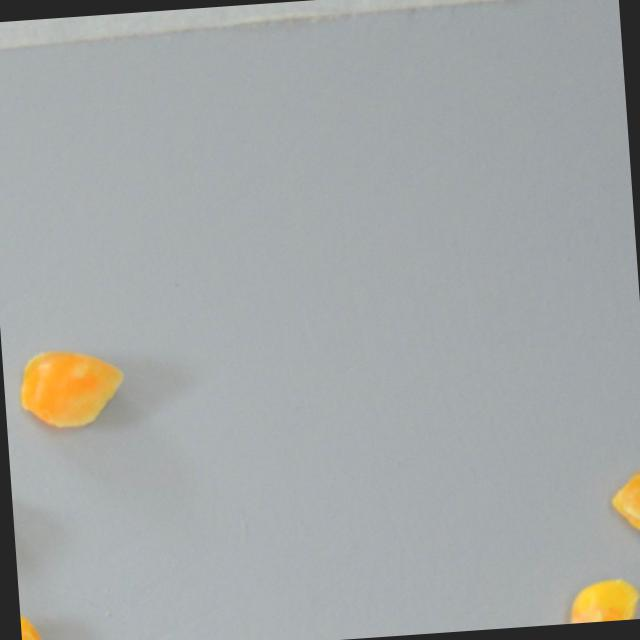dañado: (13, 343, 129, 435), (558, 568, 640, 624), (603, 465, 640, 551), (19, 602, 49, 640)
